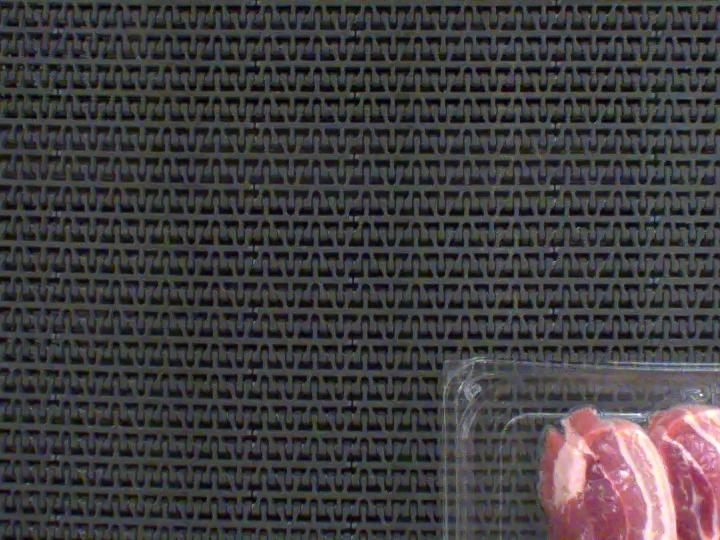unsealed: (623, 370, 720, 443)
